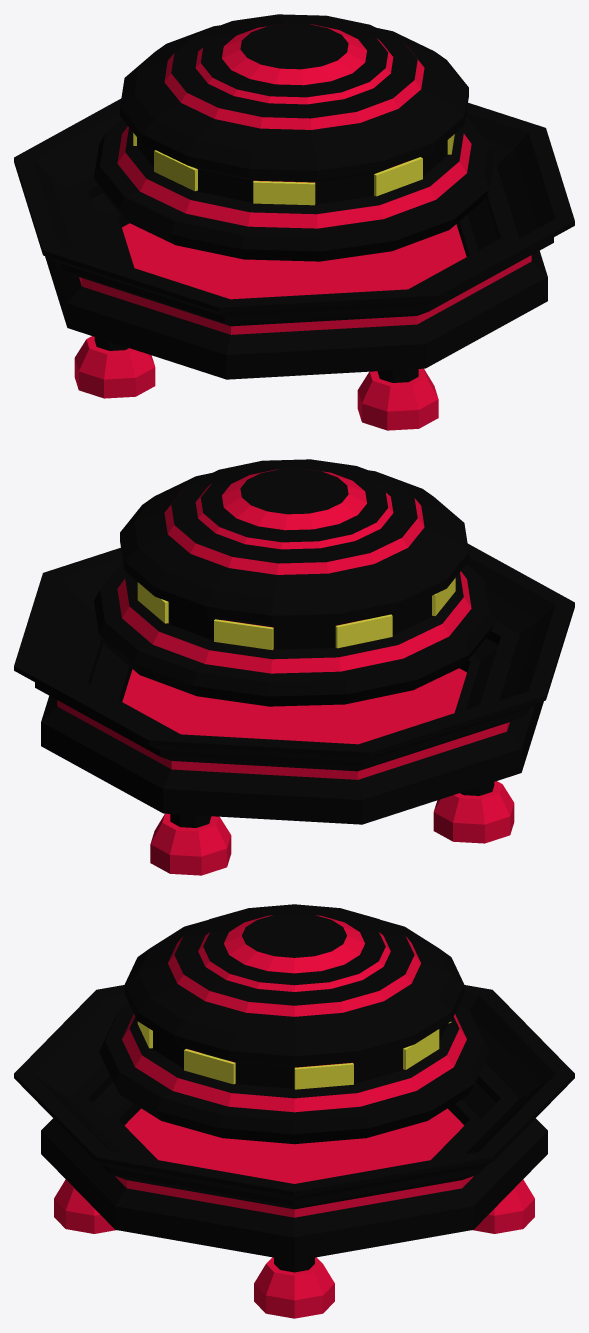
3 renders of one model, top to bottom at view 1: azimuth 30°, elevation 25°; view 2: azimuth 150°, elevation 25°; view 3: azimuth 270°, elevation 25°, orthographic. The views are drawn at different scales.
Parts seen in each view (by area): view 1: Base.base, Base.UFO.Hull.001, Base.UFO.Win.006, Base.UFO.Win.007, Base.UFO.Win.005; view 2: Base.base, Base.UFO.Hull.001, Base.UFO.Win.007, Base.UFO.Win.008, Base.UFO.Win.006; view 3: Base.base, Base.UFO.Hull.001, Base.UFO.Win.005, Base.UFO.Win.008, Base.UFO.Win.006.
Part boxes in pixels (x1,y1,x2,y2): Base.base: (14,98,574,430); Base.UFO.Hull.001: (94,14,494,261); Base.UFO.Win.006: (253,181,315,205); Base.UFO.Win.007: (374,157,422,196); Base.UFO.Win.005: (154,150,197,191); Base.base: (14,543,574,875); Base.UFO.Hull.001: (94,459,494,706); Base.UFO.Win.007: (214,619,273,650); Base.UFO.Win.008: (335,614,392,648); Base.UFO.Win.006: (137,582,168,623); Base.base: (14,985,574,1318); Base.UFO.Hull.001: (99,904,489,1144); Base.UFO.Win.005: (294,1063,353,1089); Base.UFO.Win.008: (184,1049,235,1084); Base.UFO.Win.006: (403,1029,439,1069).
Size of the model in its own units: 516 by 286 by 516.
